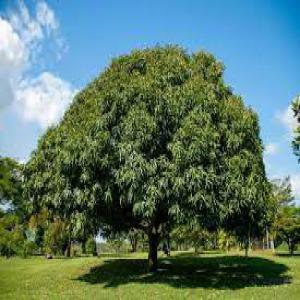Tree: (21, 39, 268, 272)
